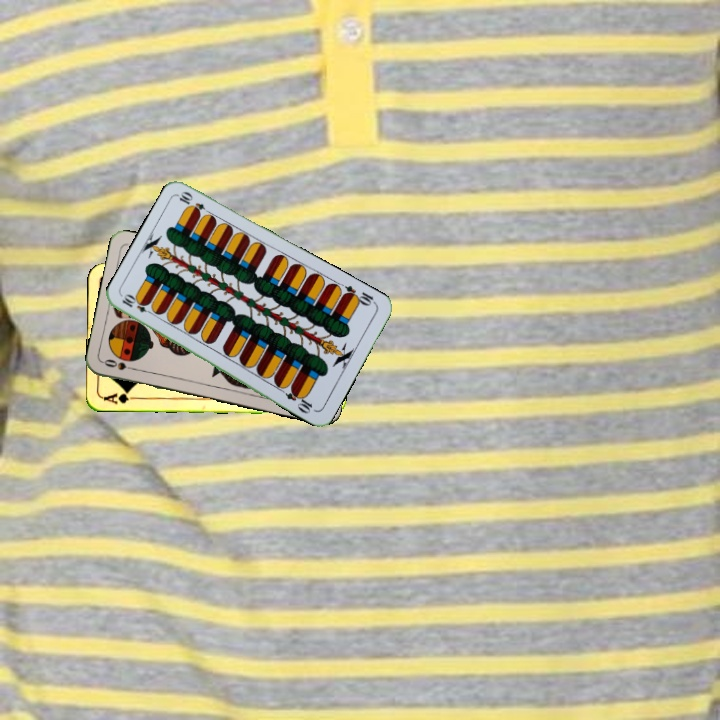E10: (339, 281, 379, 309), (118, 291, 157, 318)
GA: (101, 387, 141, 407)
SO: (100, 355, 140, 373)
